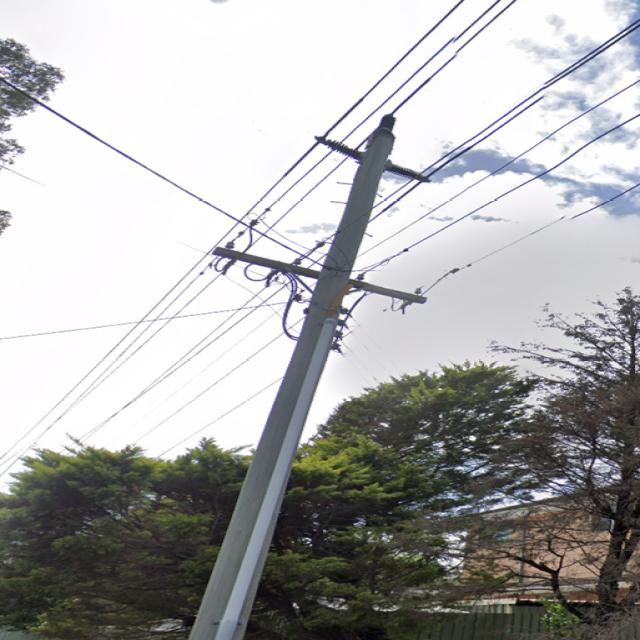HV-transmission: (312, 115, 431, 183)
crossarm: (210, 244, 424, 303)
timber-pole: (183, 130, 393, 639)
